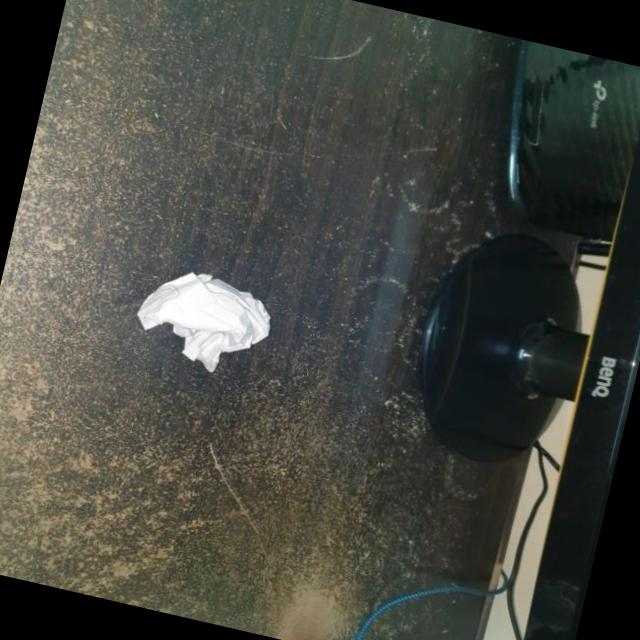cardboard paper: (139, 271, 271, 369)
